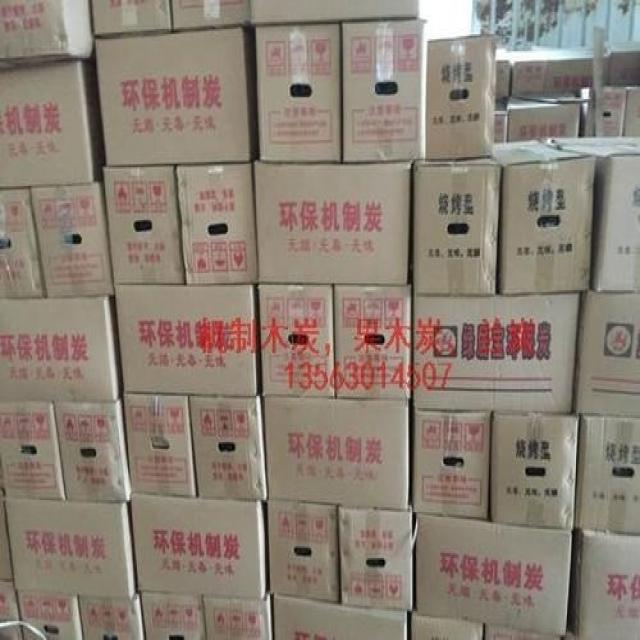box: (94, 26, 257, 166), (414, 292, 579, 412), (413, 512, 572, 636), (253, 162, 412, 285), (264, 396, 409, 511), (114, 284, 257, 398), (493, 140, 596, 295), (131, 493, 268, 600), (0, 57, 104, 188), (549, 136, 638, 289), (5, 498, 136, 599), (1, 294, 121, 404), (255, 24, 342, 163), (414, 159, 502, 296), (341, 20, 426, 161), (490, 411, 579, 529), (176, 163, 258, 284), (31, 181, 114, 297), (103, 167, 185, 284), (411, 409, 493, 519), (333, 285, 411, 400), (258, 284, 335, 397), (53, 396, 132, 503), (572, 291, 639, 416), (189, 396, 268, 499), (427, 36, 493, 159), (567, 529, 639, 638), (339, 507, 414, 611), (123, 393, 197, 496), (574, 417, 639, 534), (268, 499, 341, 603), (0, 1, 94, 70), (1, 403, 66, 502), (273, 594, 407, 638), (0, 187, 46, 298), (251, 1, 419, 23), (79, 589, 146, 638), (202, 592, 271, 638), (140, 591, 206, 638), (17, 593, 84, 638), (92, 1, 172, 35), (169, 1, 251, 29), (410, 612, 483, 638), (486, 624, 563, 638)
